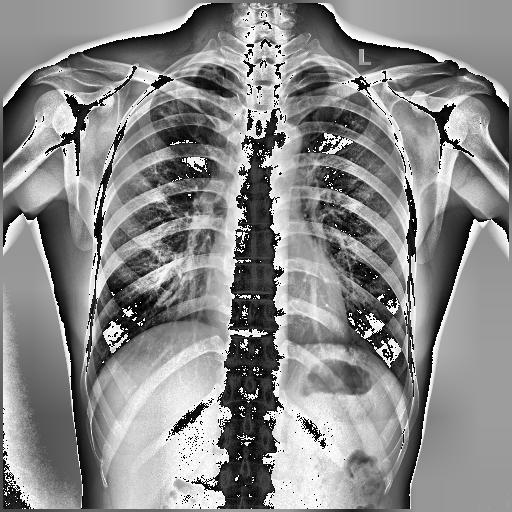13- Pulmonary fibrosis: (332, 90, 374, 142), (153, 86, 197, 132), (155, 84, 196, 128), (337, 99, 367, 133), (344, 100, 372, 136), (156, 90, 180, 126)
6- Infiltration: (337, 99, 367, 133), (156, 90, 180, 126)
